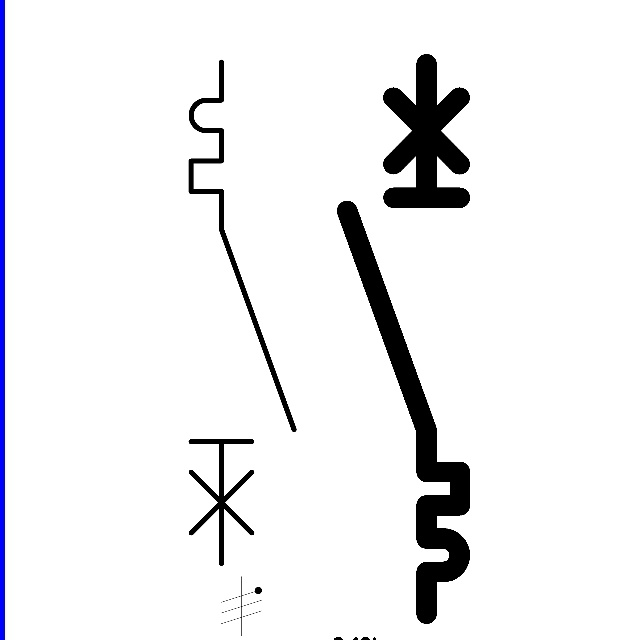interruptor_termomagnetico: (333, 50, 474, 628), (178, 49, 307, 576)
